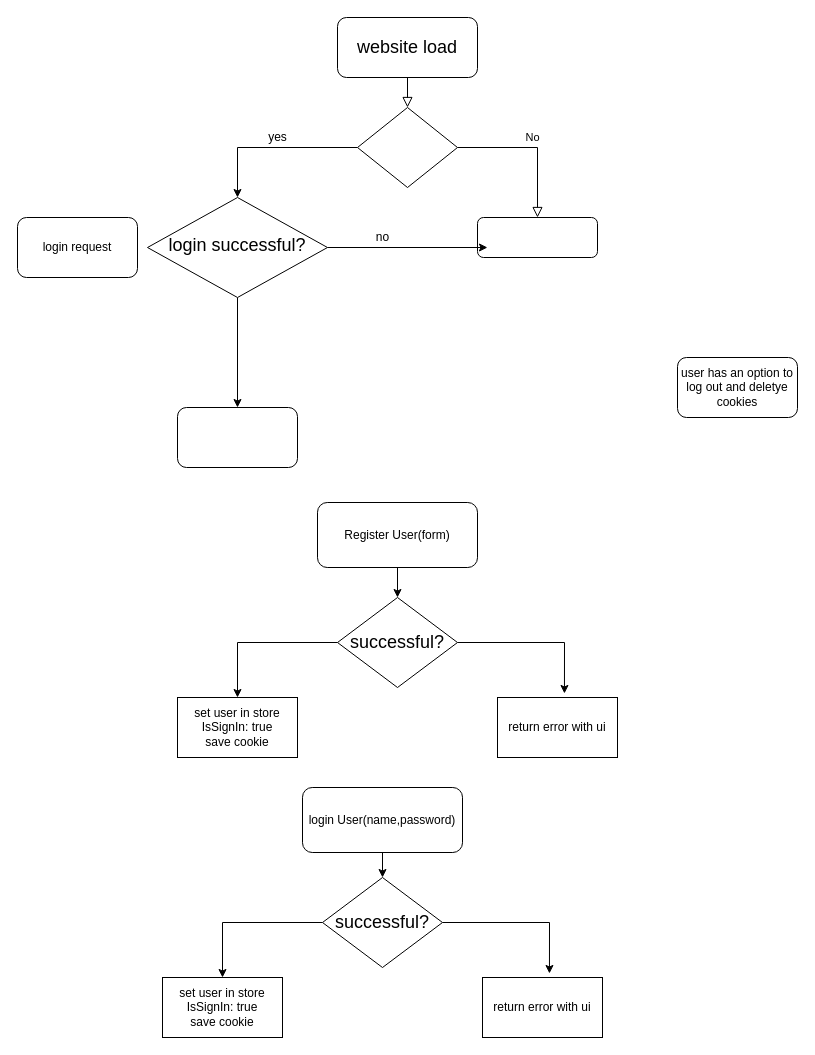
This 815x1055 diagram has some shape labels left out. Each missing label, with the box of its shape:
cookie?: (356, 106, 458, 188)
isSignIn: false: (476, 216, 598, 258)
set user in store IsSignIn: true: (176, 406, 298, 468)
